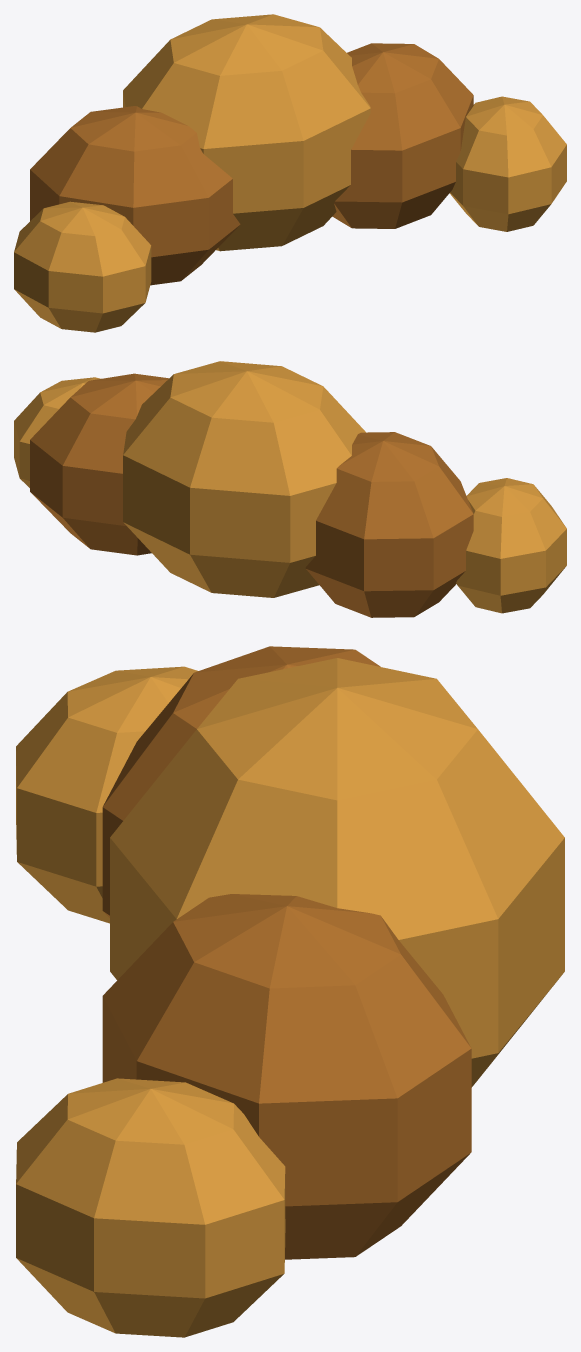
Rendered from bank_croissant.glb.
3 renders of one model, top to bottom at view 1: azimuth 30°, elevation 25°; view 2: azimuth 150°, elevation 25°; view 3: azimuth 270°, elevation 25°, orthographic. The views are drawn at different scales.
Parts seen in each view (by area): view 1: croissant_croissant, croissant_croissant_dark; view 2: croissant_croissant, croissant_croissant_dark; view 3: croissant_croissant, croissant_croissant_dark.
Part boxes in pixels (x1,y1,x2,y2): croissant_croissant: [14, 14, 566, 332]; croissant_croissant_dark: [30, 43, 473, 285]; croissant_croissant: [14, 361, 566, 613]; croissant_croissant_dark: [30, 373, 473, 617]; croissant_croissant: [16, 658, 564, 1337]; croissant_croissant_dark: [102, 646, 471, 1259].
Size of the model in its own units: 0.1798 by 0.07 by 0.0803.
